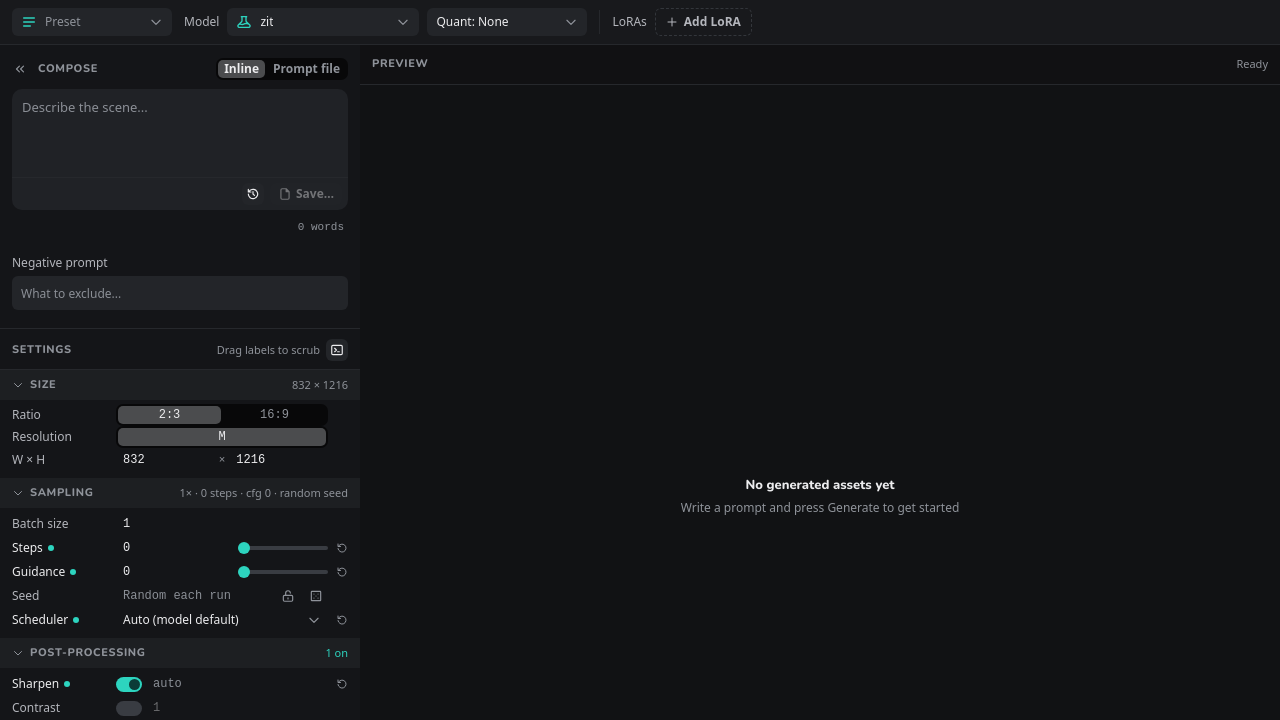
Test: Discover LoRAs: entry points › is locked to the Workspace model: the family and size of the model in the form
The width and height of the screenshot is (1280, 720).
Click the button "Add LoRA" at (703, 22), box left=655, top=8, right=752, bottom=36
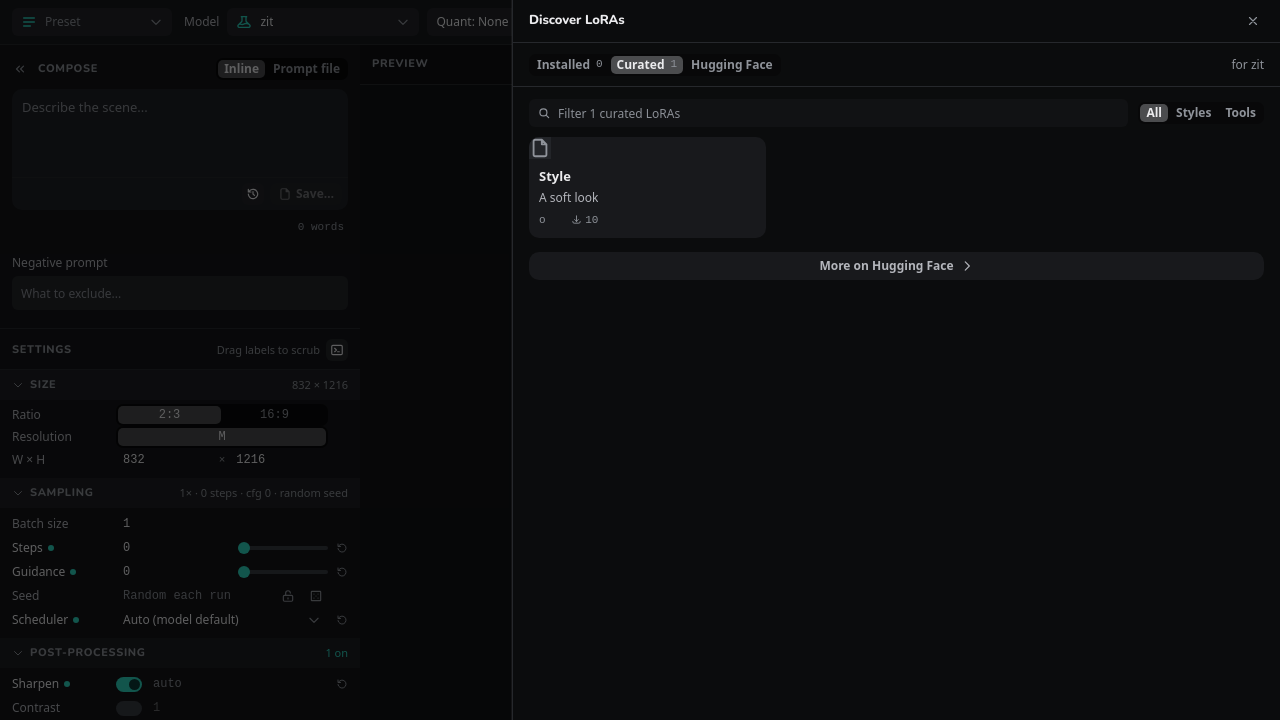
Expected: the dialog named "Discover LoRAs" shows "for zit", left=1232, top=56, right=1264, bottom=72
